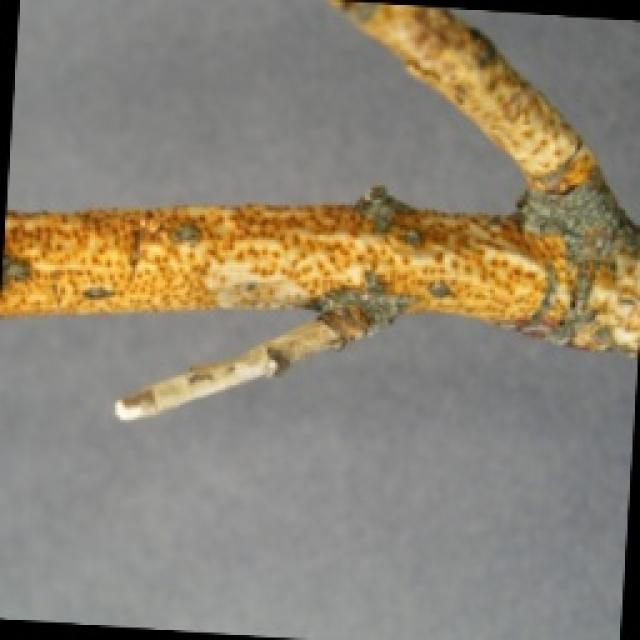Golden_canker: (5, 5, 640, 420)
